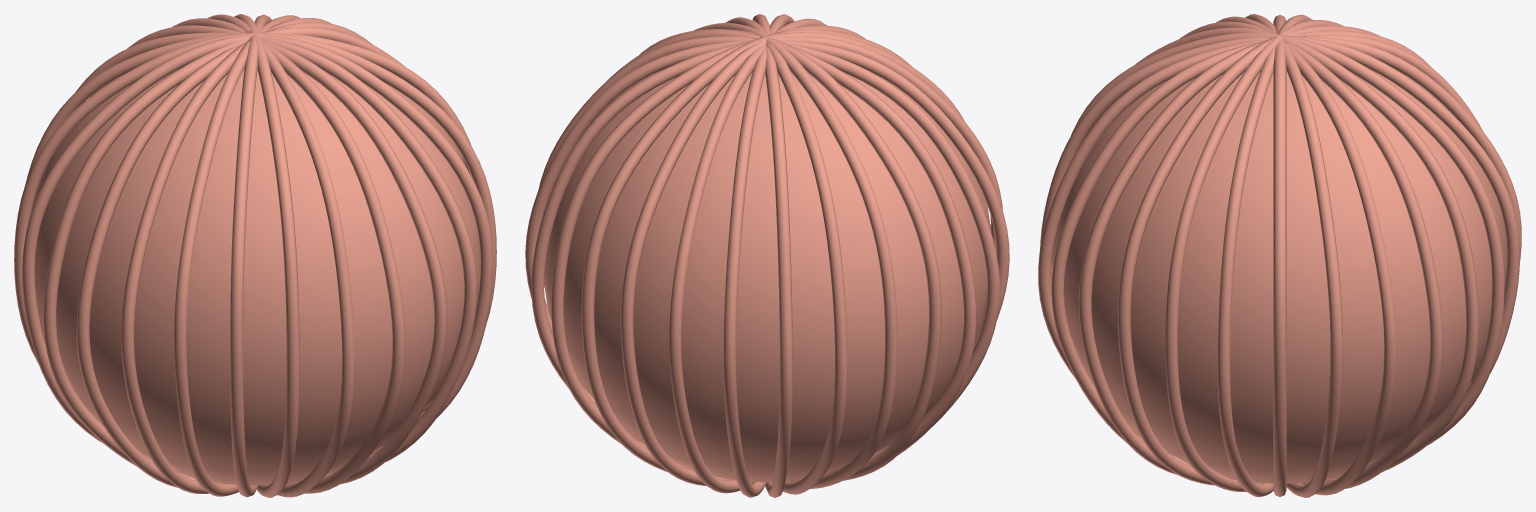
Rendered from YarnBall.fbx.
3 renders of one model, left to right at view 1: azimuth 30°, elevation 25°; view 2: azimuth 150°, elevation 25°; view 3: azimuth 270°, elevation 25°, orthographic.
Parts seen in each view (by area): view 1: YarnBall; view 2: YarnBall; view 3: YarnBall.
Part boxes in pixels (x1,y1,x2,y2): YarnBall: (14,14,496,497); YarnBall: (525,14,1009,497); YarnBall: (1038,14,1521,497).
Bounding box in the file's own units: 44.46 × 44.77 × 44.34.
